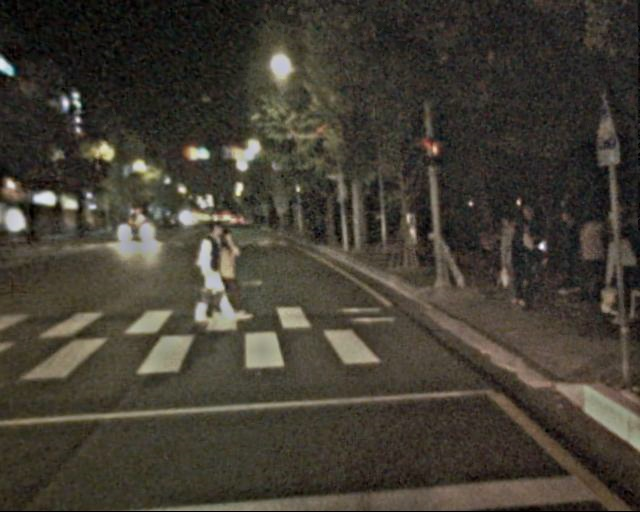person: (185, 216, 230, 326), (508, 210, 551, 315), (596, 231, 637, 330), (572, 210, 608, 299), (203, 231, 239, 319), (549, 209, 584, 294), (607, 213, 640, 299), (495, 218, 526, 294)
